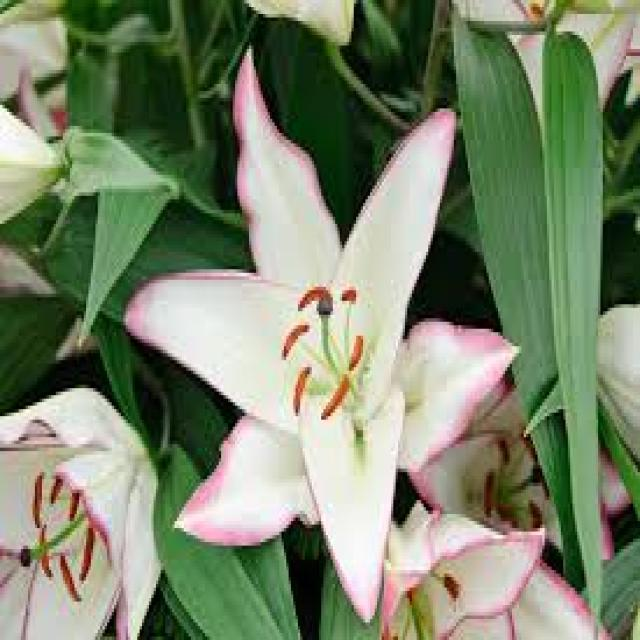lily: (115, 9, 529, 617)
